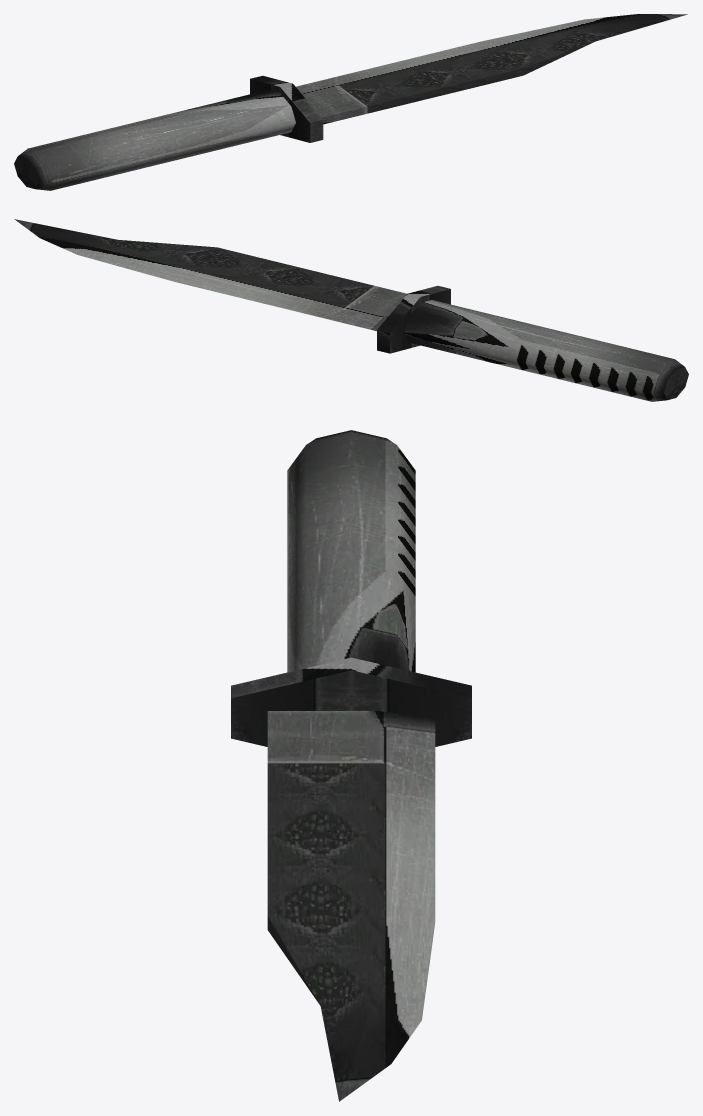
The model's file is weapon_parabolic_knife.glb.
3 renders of one model, top to bottom at view 1: azimuth 30°, elevation 25°; view 2: azimuth 150°, elevation 25°; view 3: azimuth 270°, elevation 25°, orthographic. The views are drawn at different scales.
Visible parts, largest first — view 1: weapon_parabolic_knife; view 2: weapon_parabolic_knife; view 3: weapon_parabolic_knife.
Part boxes in pixels (x1,y1,x2,y2): weapon_parabolic_knife: (14,14,687,190); weapon_parabolic_knife: (14,219,688,401); weapon_parabolic_knife: (231,430,471,1101).
Size of the model in its own units: 0.3809 by 0.0266 by 0.0603.
1 material, 1 textured.
